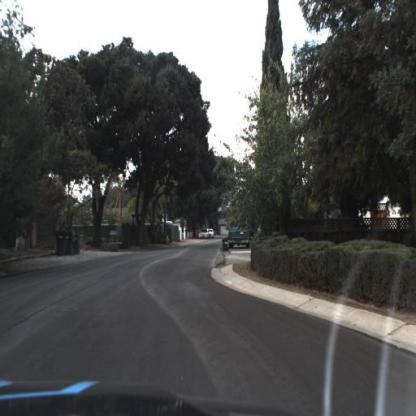car: (228, 214, 253, 254), (228, 210, 253, 246)
